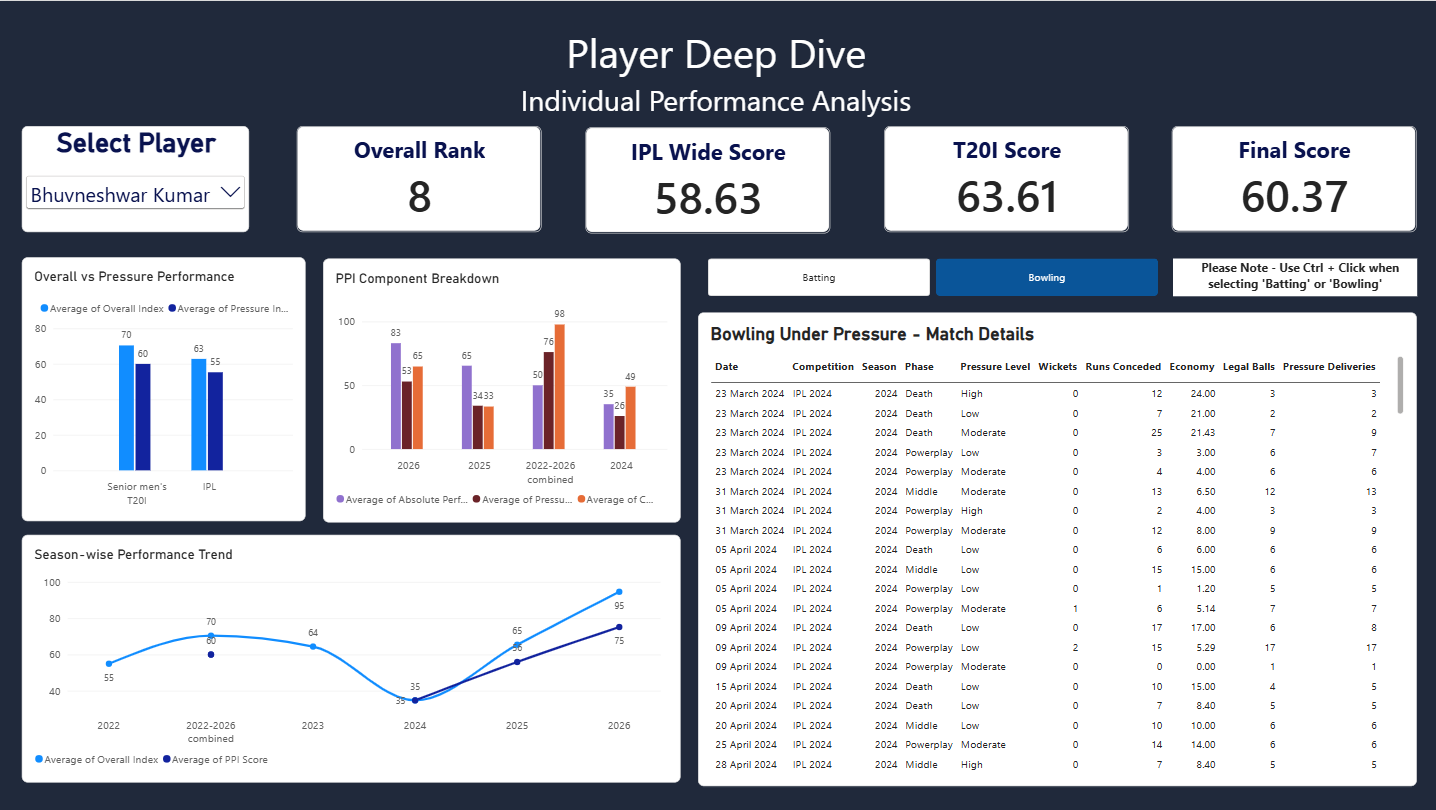

What the dashboard file says about the page in this screenshot:
{"tool":"powerbi","page":{"name":"03 - Player Deep Dive","canvas":[1920,1080],"ordinal":2},"visuals":[{"type":"textbox","box":[0,12.2,1920.4,101.2],"z":0},{"type":"textbox","box":[0,83.7,1920.4,83.7],"z":1000},{"type":"slicer","title":"Select Player","fields":{"Values":["T_Final_Shortlist.player_name"]},"box":[31.4,167.4,303.3,141.7],"z":2000},{"type":"cardVisual","fields":{"Data":["Sum(T_Final_Shortlist.original_cross_comp_rank)"]},"box":[398.3,166.7,326.7,141.7],"z":3000},{"type":"cardVisual","fields":{"Data":["Sum(T_Final_Shortlist.ipl_wide_score)"]},"box":[783.3,168.3,326.7,141.7],"z":4000},{"type":"cardVisual","fields":{"Data":["Sum(T_Final_Shortlist.t20i_score)"]},"box":[1181.7,166.7,326.7,141.7],"z":5000},{"type":"cardVisual","fields":{"Data":["Sum(T_Final_Shortlist.original_cross_competition_score)"]},"box":[1565,166.7,326.7,141.7],"z":6000},{"type":"clusteredColumnChart","title":"Overall vs Pressure Performance","fields":{"Category":["T_BI_Combined_Scores.population"],"Y":["Avg(T_BI_Combined_Scores.overall_index)","Avg(T_BI_Combined_Scores.pressure_index)"]},"box":[31.4,341.9,378.5,352.3],"z":7000},{"type":"lineChart","title":"Season-wise Performance Trend","fields":{"Category":["T_BI_Player_Performance.period"],"Y":["Avg(T_BI_Player_Performance.overall_index)","Avg(T_BI_Player_Performance.ppi_score)"]},"box":[31.7,711.7,878.3,330],"z":8000},{"type":"clusteredColumnChart","title":"PPI Component Breakdown","fields":{"Category":["T_BI_Player_Performance.period"],"Y":["Avg(T_BI_Player_Performance.absolute_performance_score)","Avg(T_BI_Player_Performance.pressure_uplift_score)","Avg(T_BI_Player_Performance.consistency_score)"]},"box":[433.8,342.6,476.7,351.9],"z":9000},{"type":"tableEx","title":"Bowling Under Pressure - Match Details","fields":{"Values":["T_BI_Pressure_Bowling_Matches.match_date","T_BI_Pressure_Bowling_Matches.comp_name","T_BI_Pressure_Bowling_Matches.season","T_BI_Pressure_Bowling_Matches.phase","T_BI_Pressure_Bowling_Matches.pressure_level","T_BI_Pressure_Bowling_Matches.wickets","T_BI_Pressure_Bowling_Matches.runs_conceded","T_BI_Pressure_Bowling_Matches.economy","T_BI_Pressure_Bowling_Matches.legal_balls","T_BI_Pressure_Bowling_Matches.pressure_deliveries"]},"box":[933.3,415,958.3,631.7],"z":10000},{"type":"bookmarkNavigator","box":[946,342.5,600,50],"z":12000},{"type":"textbox","box":[1565.9,342.6,325.8,50.3],"z":13000}]}

Visuals, with their boxes in screenshot pixels (x1, y1, x2, y2), scaled from the page's 1920x1080 canvas onto the 1436x810 screenshot:
textbox: Rect(0, 9, 1435, 85)
textbox: Rect(0, 63, 1435, 126)
"Select Player" slicer: Rect(23, 126, 250, 232)
cardVisual - Sum(T_Final_Shortlist.original_cross_comp_rank): Rect(298, 125, 542, 231)
cardVisual - Sum(T_Final_Shortlist.ipl_wide_score): Rect(586, 126, 830, 232)
cardVisual - Sum(T_Final_Shortlist.t20i_score): Rect(884, 125, 1128, 231)
cardVisual - Sum(T_Final_Shortlist.original_cross_competition_score): Rect(1170, 125, 1415, 231)
"Overall vs Pressure Performance" clusteredColumnChart: Rect(23, 256, 307, 521)
"Season-wise Performance Trend" lineChart: Rect(24, 534, 681, 781)
"PPI Component Breakdown" clusteredColumnChart: Rect(324, 257, 681, 521)
"Bowling Under Pressure - Match Details" tableEx: Rect(698, 311, 1415, 785)
bookmarkNavigator: Rect(708, 257, 1156, 294)
textbox: Rect(1171, 257, 1415, 295)
